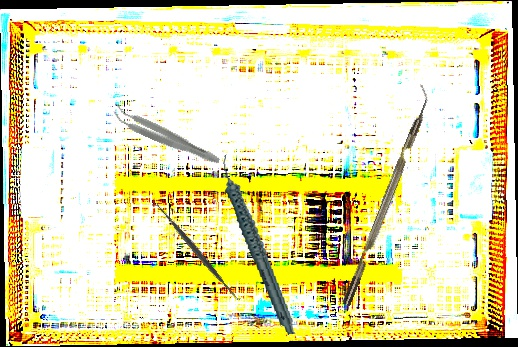Chopper: (332, 83, 437, 307)
Handpiece: (219, 148, 296, 341)
Spatula Surgical: (149, 197, 244, 306)
Tissue Forceps: (109, 103, 224, 168)
